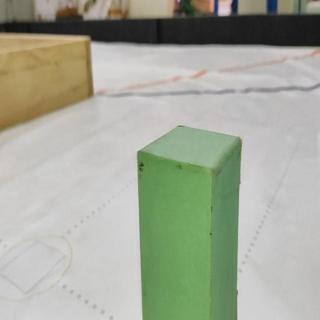greenbox: (135, 122, 245, 320)
